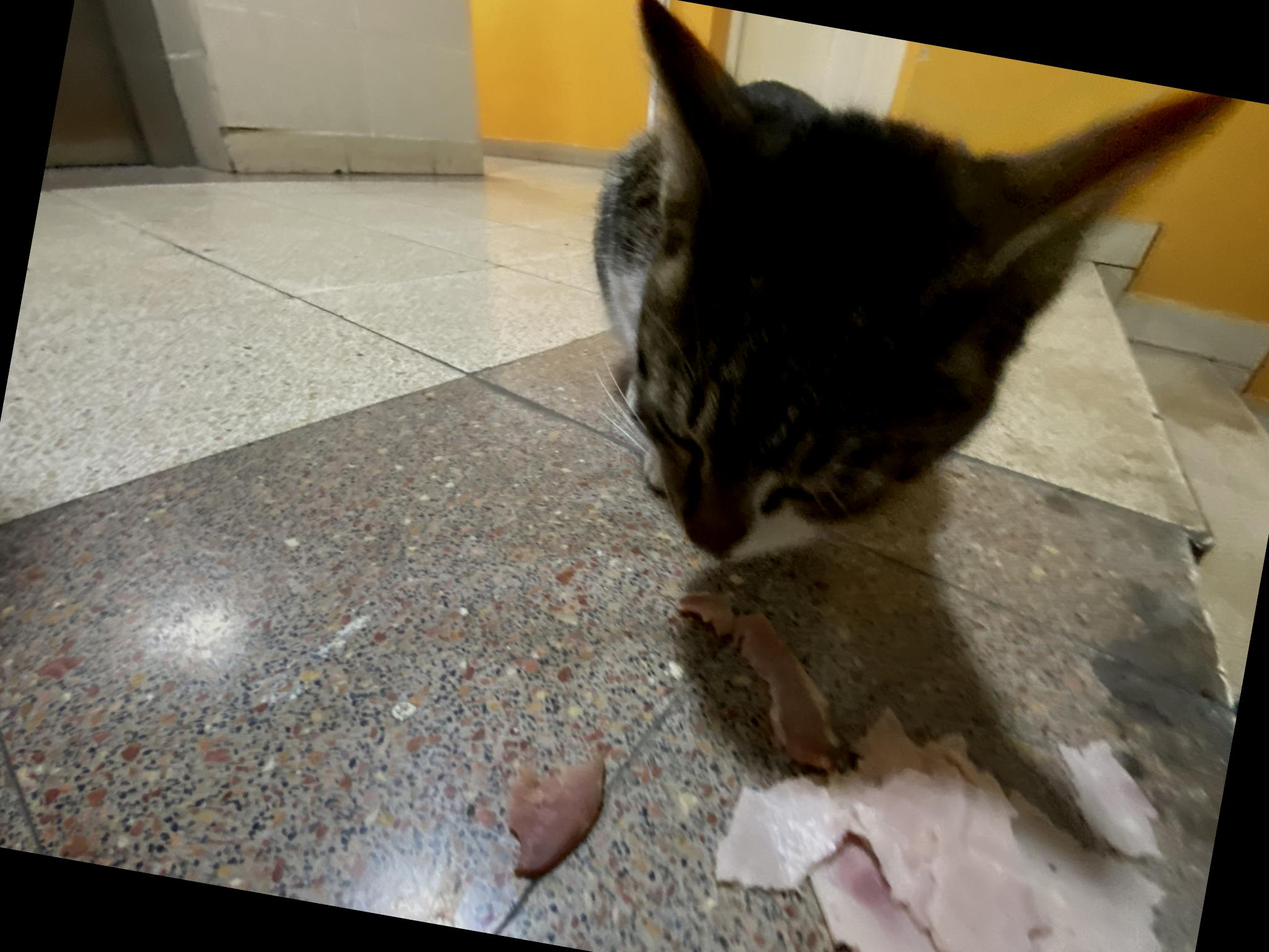macka: (540, 0, 1237, 638)
